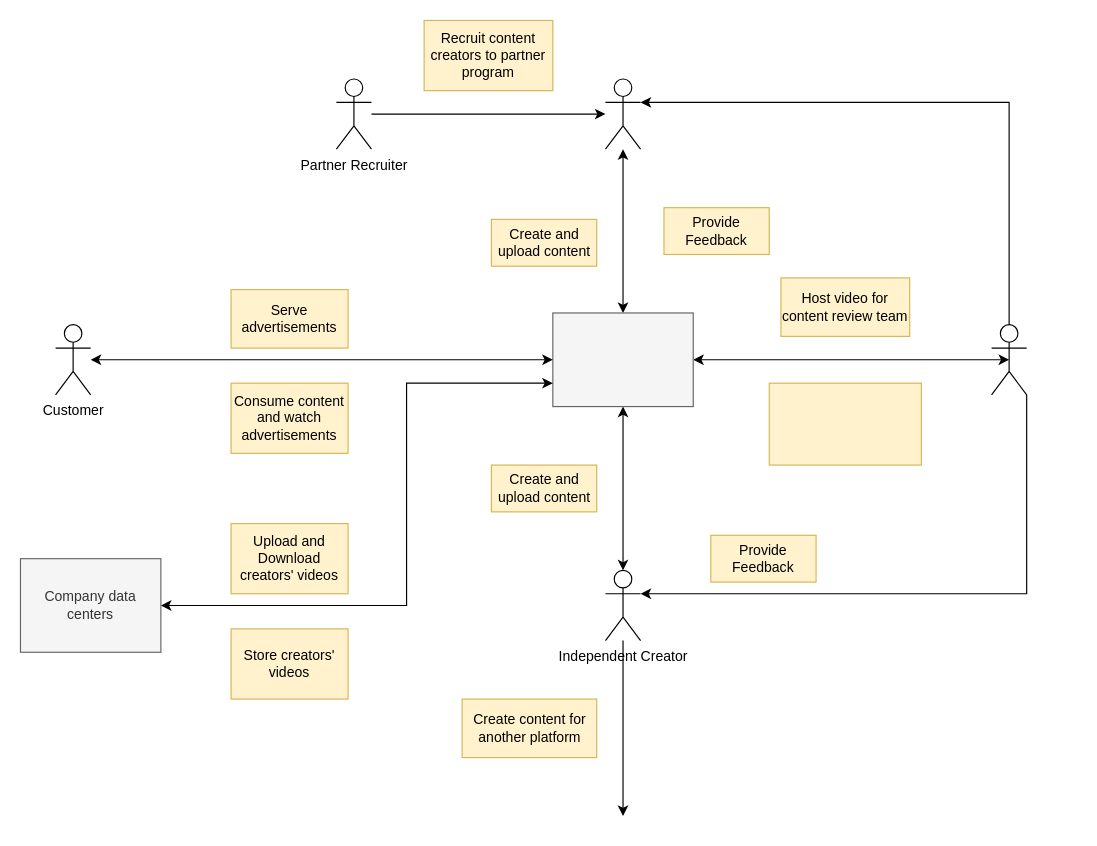
The diagram is 1097 pixels wide and 846 high, and some of its shapes have lost their labels. Each missing label, with the centre of its shape:
"Company servers" belongs at (x=622, y=359).
"Content Review Team" belongs at (x=1008, y=359).
"Partnered Creator" belongs at (x=622, y=113).
"Remove video if needed or allow the video to remain public" belongs at (x=844, y=423).
